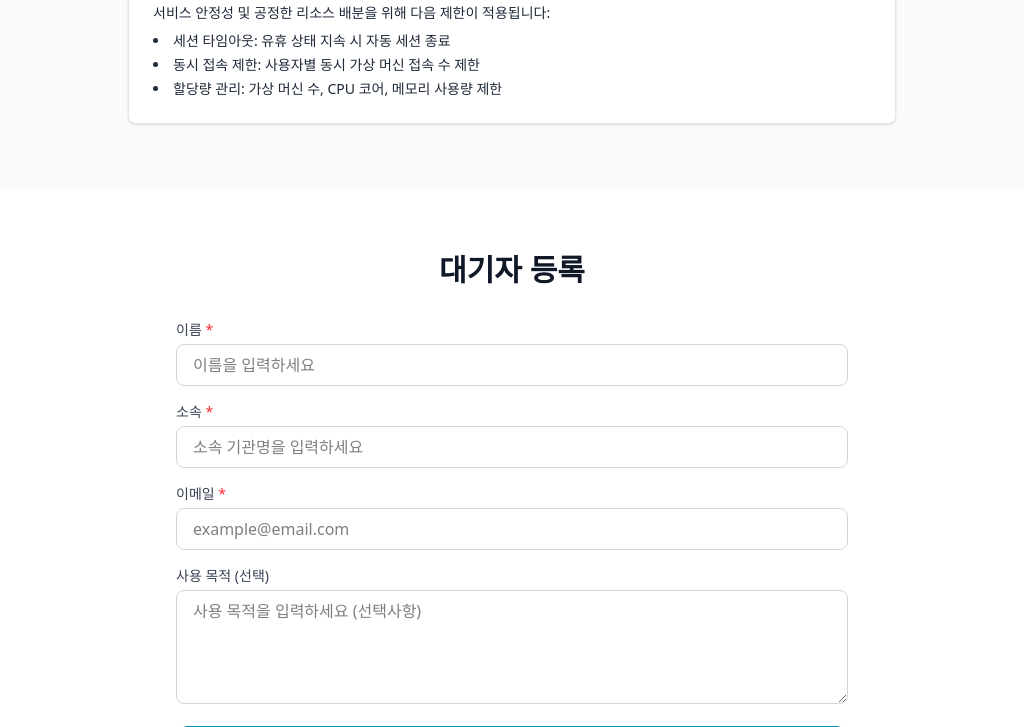
Test case: Home Page › disables submit button while submitting
The width and height of the screenshot is (1024, 727).
(page scrolled)
Type "홍길동" into the field labelled "이름 *" at {"x": 512, "y": 365}, box left=176, top=344, right=848, bottom=386
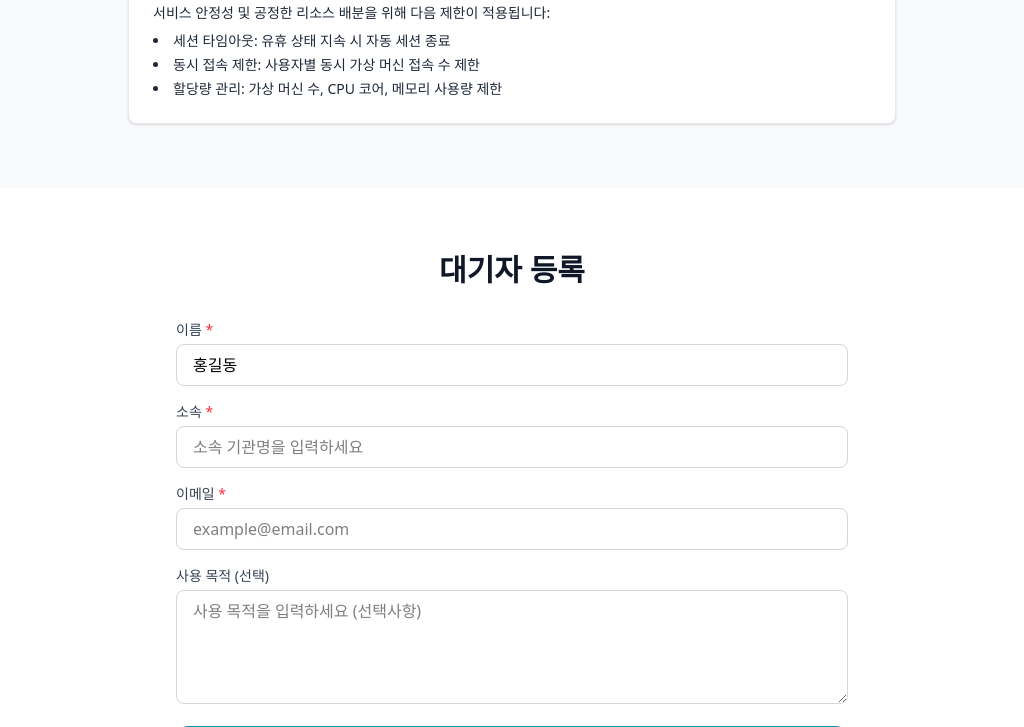
Type "test@example.com" into the field labelled "이메일 *" at {"x": 512, "y": 529}, box left=176, top=508, right=848, bottom=550
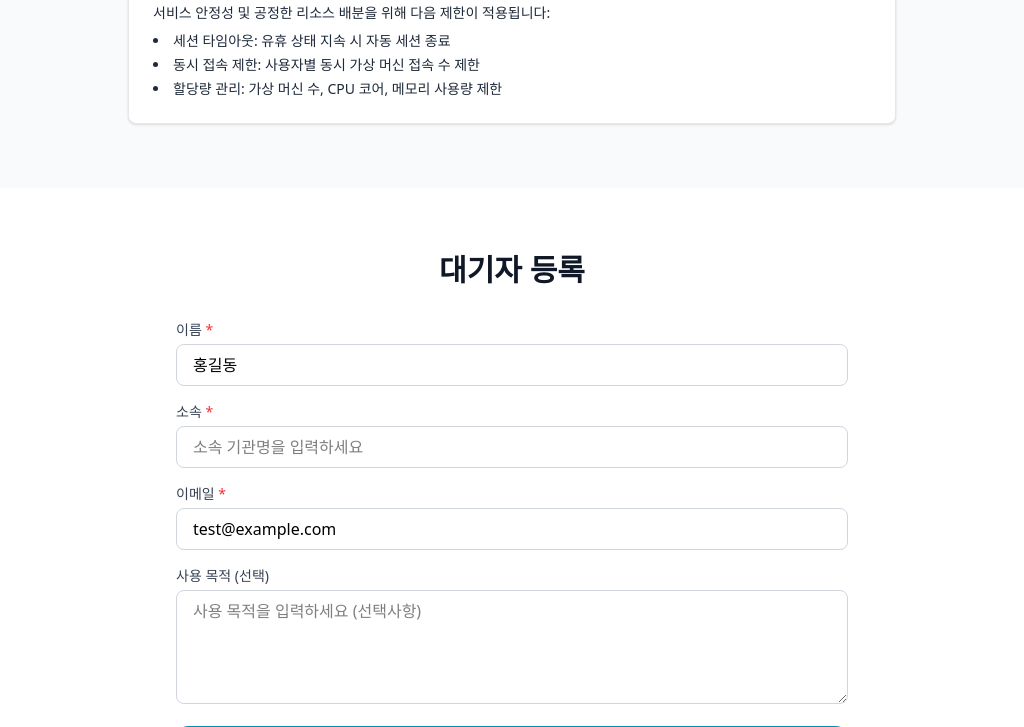
Type "테스트 조직" into the field labelled "소속 *" at {"x": 512, "y": 447}, box left=176, top=426, right=848, bottom=468
(page scrolled)
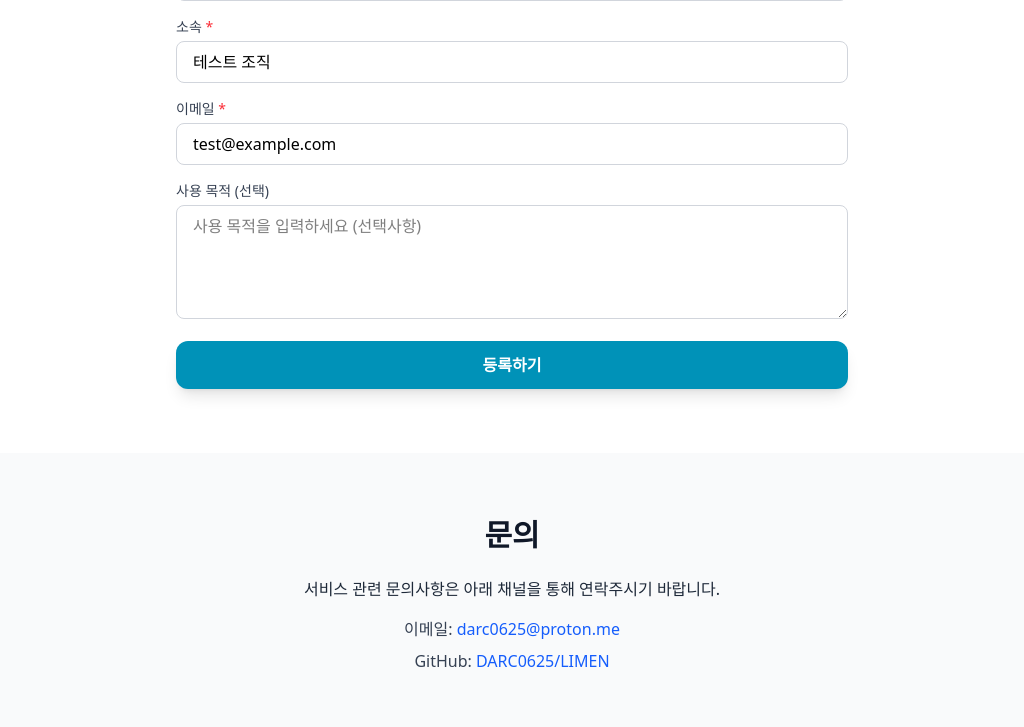
Click the button "등록하기" at {"x": 512, "y": 365}, box left=176, top=341, right=848, bottom=389
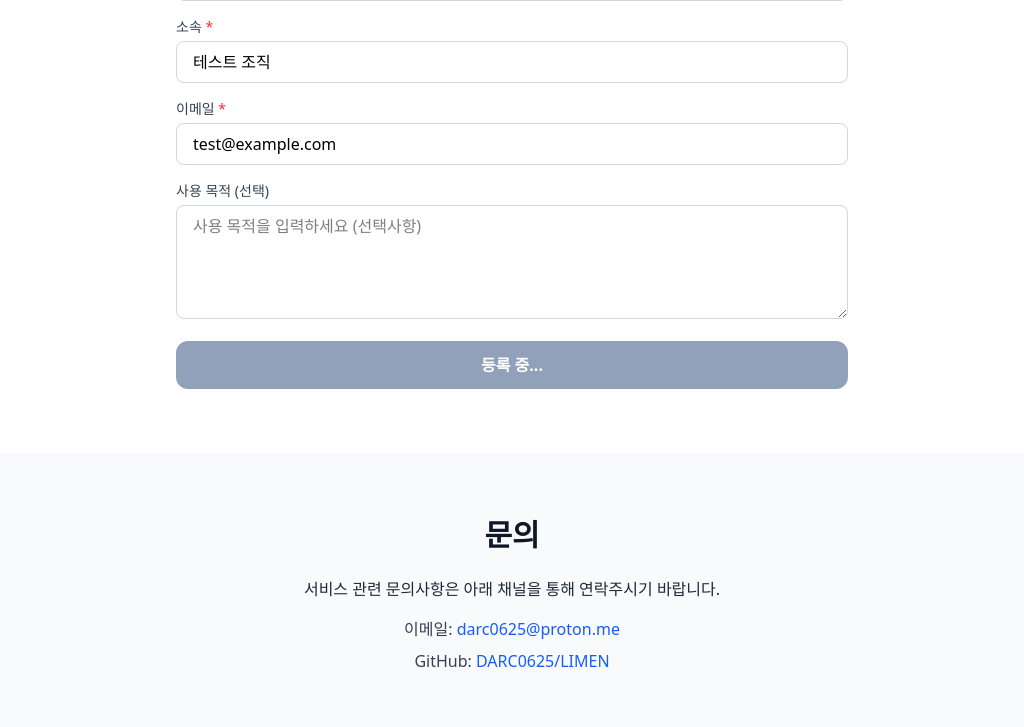
Expected: the button named "등록하기" is disabled, left=176, top=341, right=848, bottom=389
